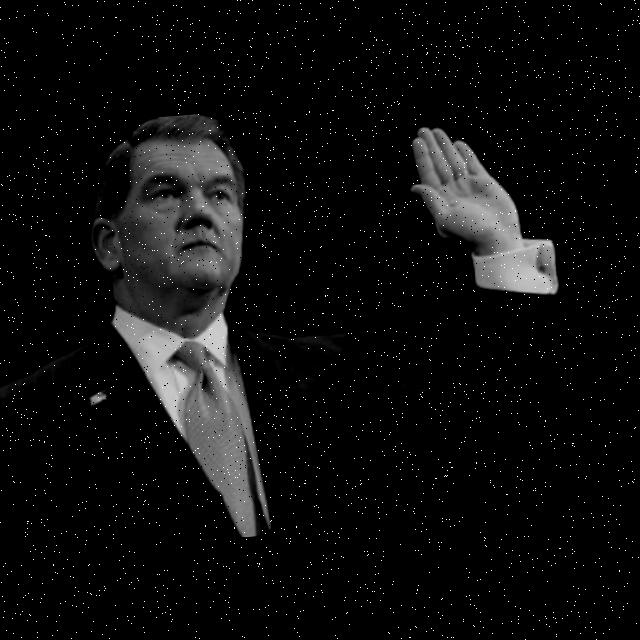face: (122, 132, 248, 309)
